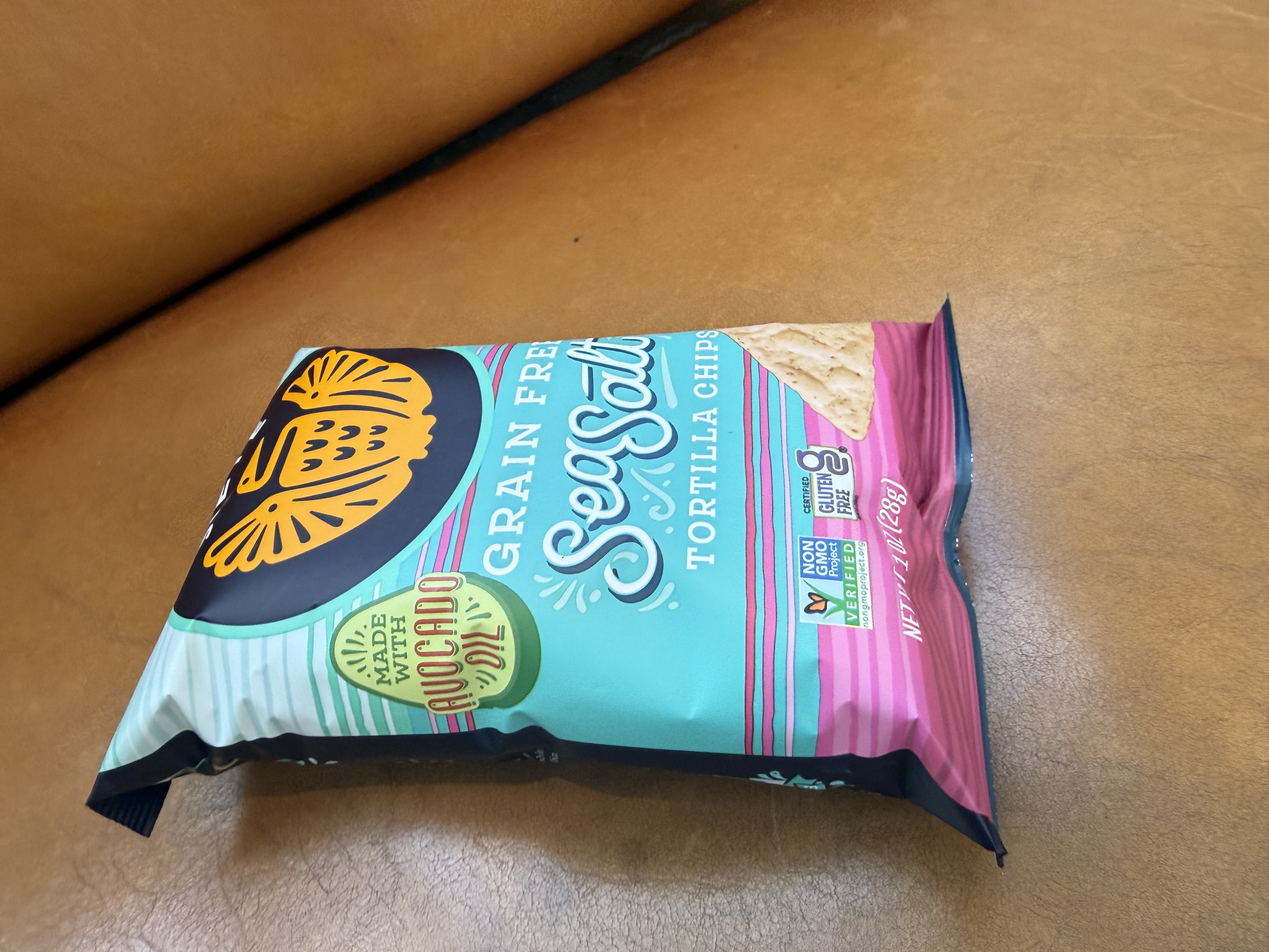sea_salt: (78, 296, 1024, 870)
